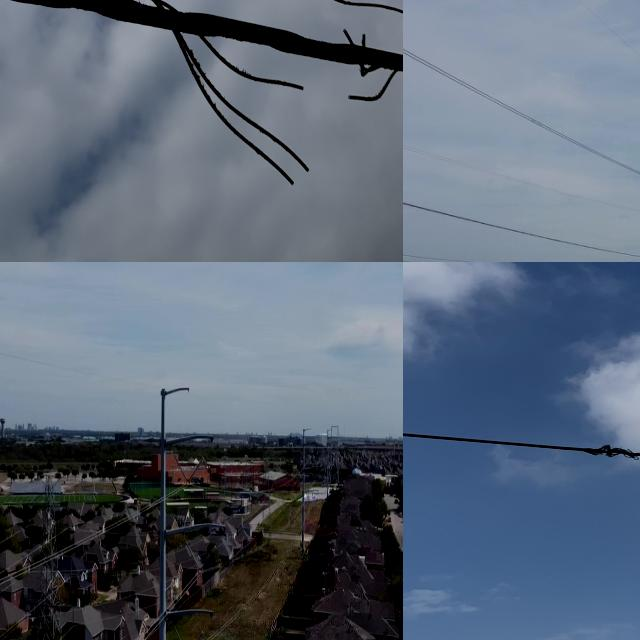杆塔: (20, 459, 78, 640)
正常绝缘子: (197, 540, 220, 576), (183, 536, 204, 574), (184, 453, 206, 489), (170, 446, 190, 485), (170, 618, 184, 640), (195, 627, 207, 640)
电缆破损: (0, 0, 403, 195), (481, 395, 640, 474)
